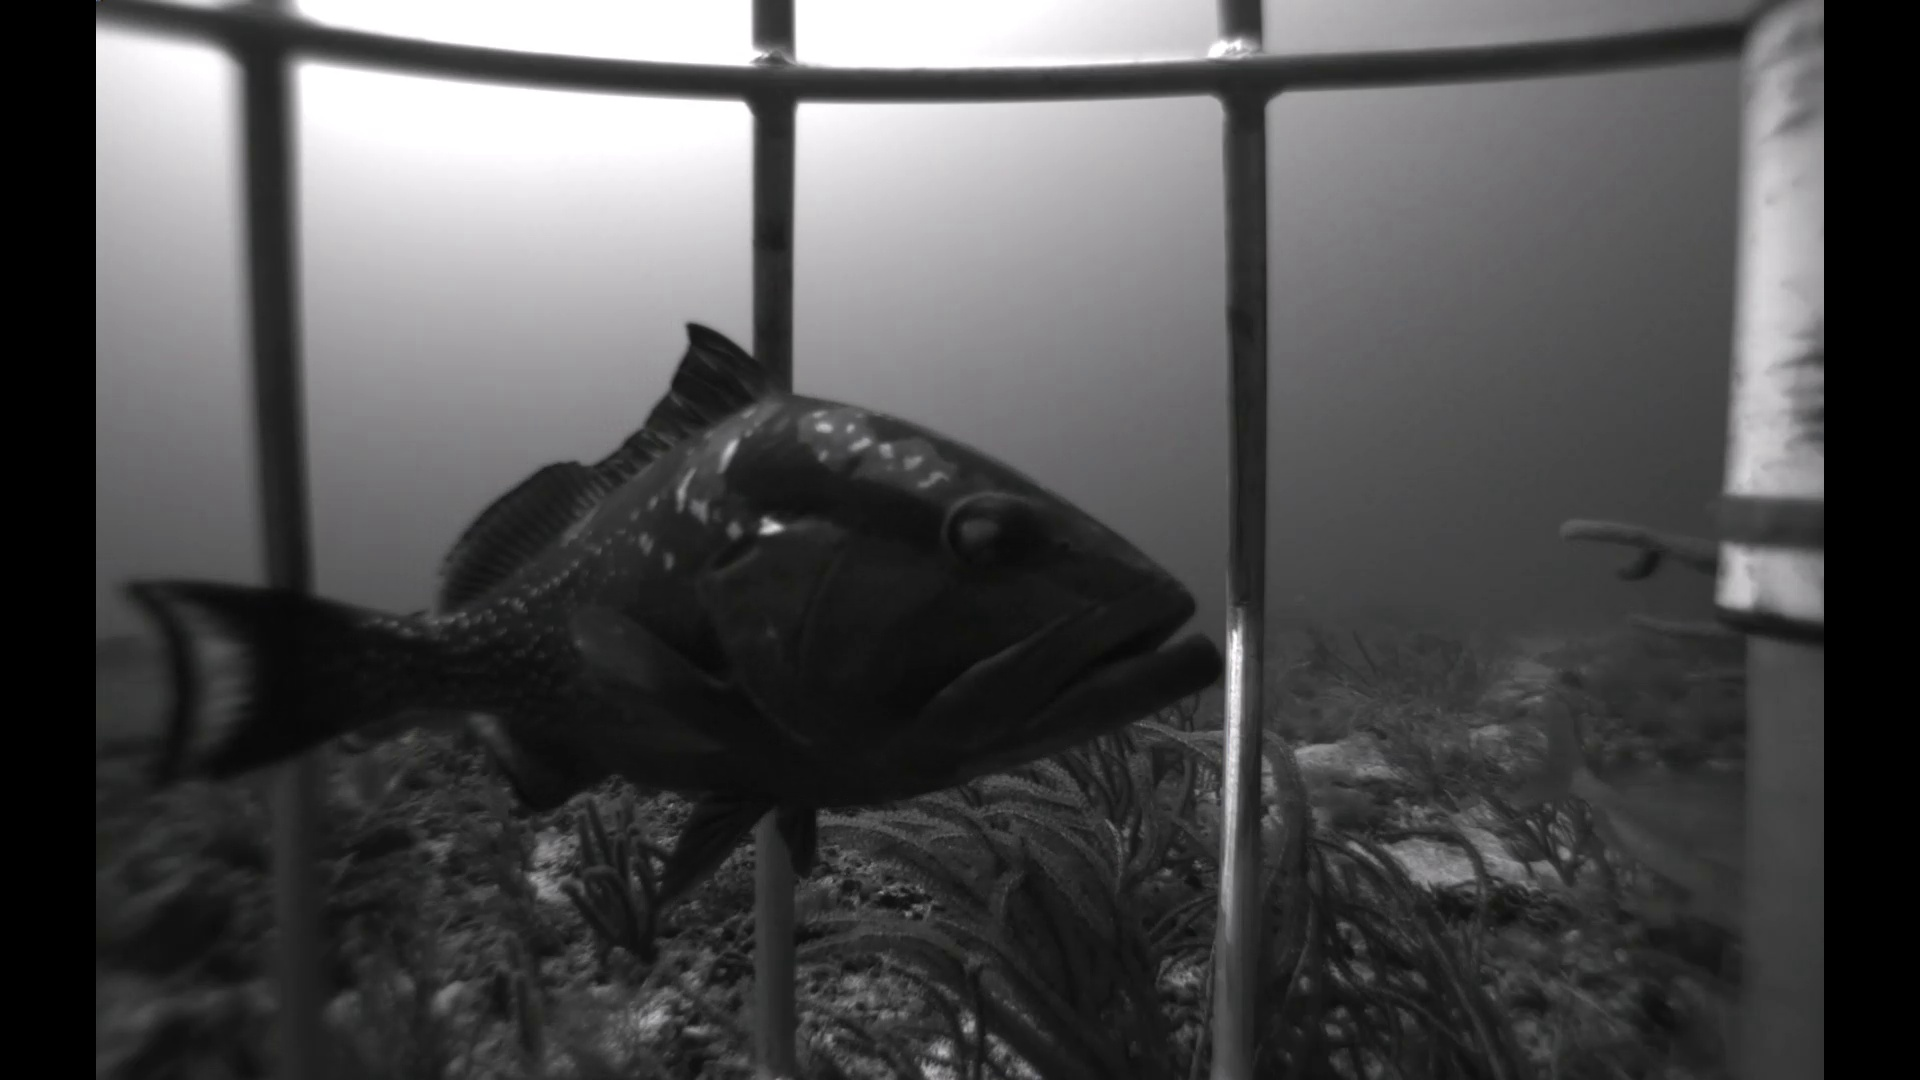CALAMUSNODOSUS-170210608: (1493, 684, 1753, 953), (309, 733, 418, 828)
EPINEPHELUSMORIO-170021211: (105, 306, 1221, 913), (310, 591, 473, 764)
